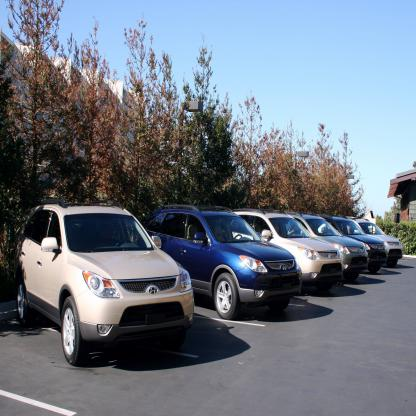Vehicle: (20, 201, 194, 367)
